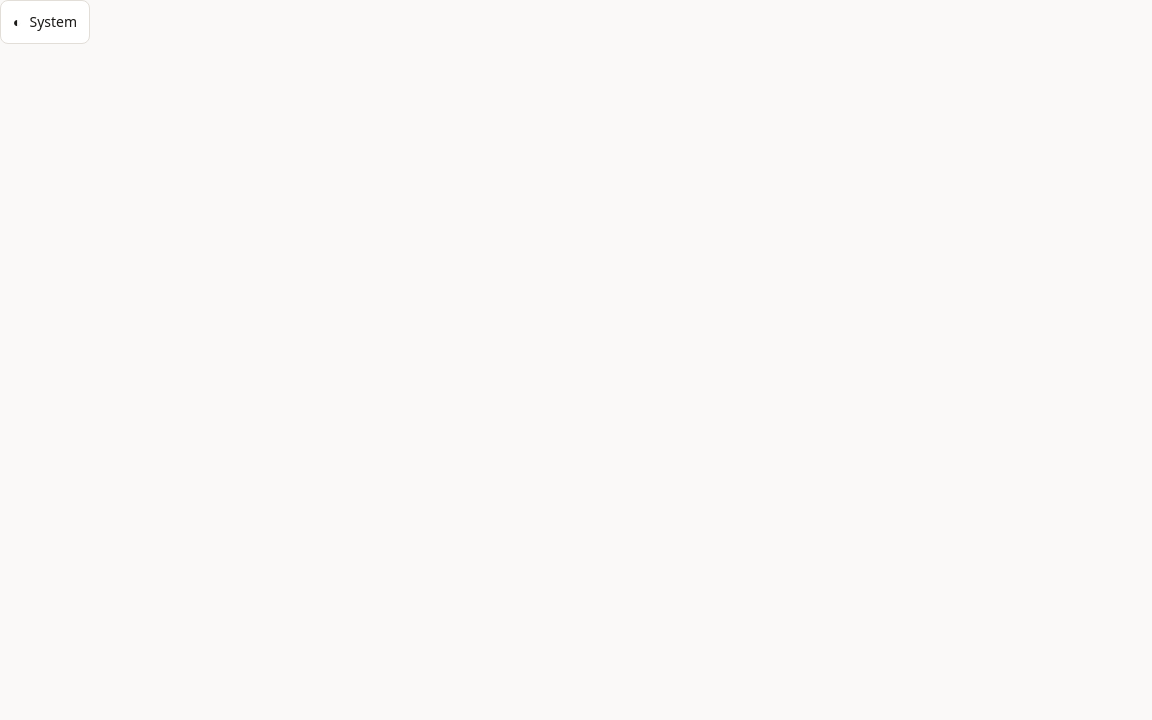
Test: ThemeToggle › cycles and persists the preference
Click the button with test id "theme-toggle" at (45, 22), box [0,0,90,44]
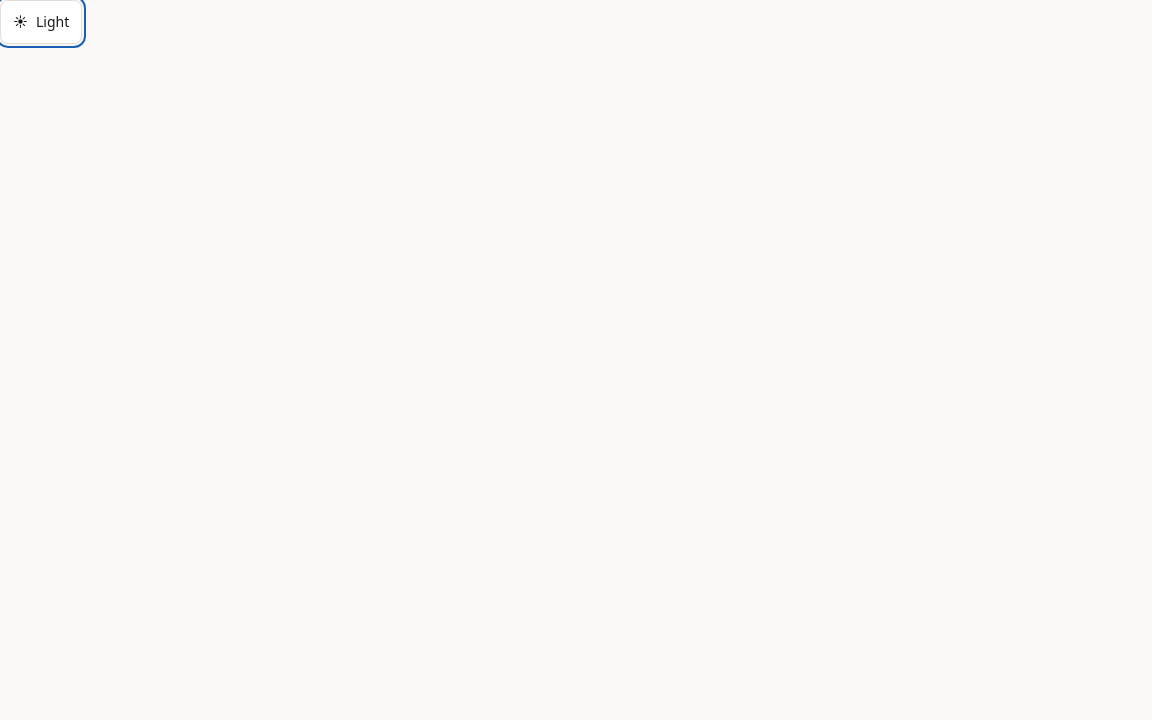
Check: the button with test id "theme-toggle" has attribute data-preference="light"
Click the button with test id "theme-toggle" at (41, 22), box [0,0,82,44]
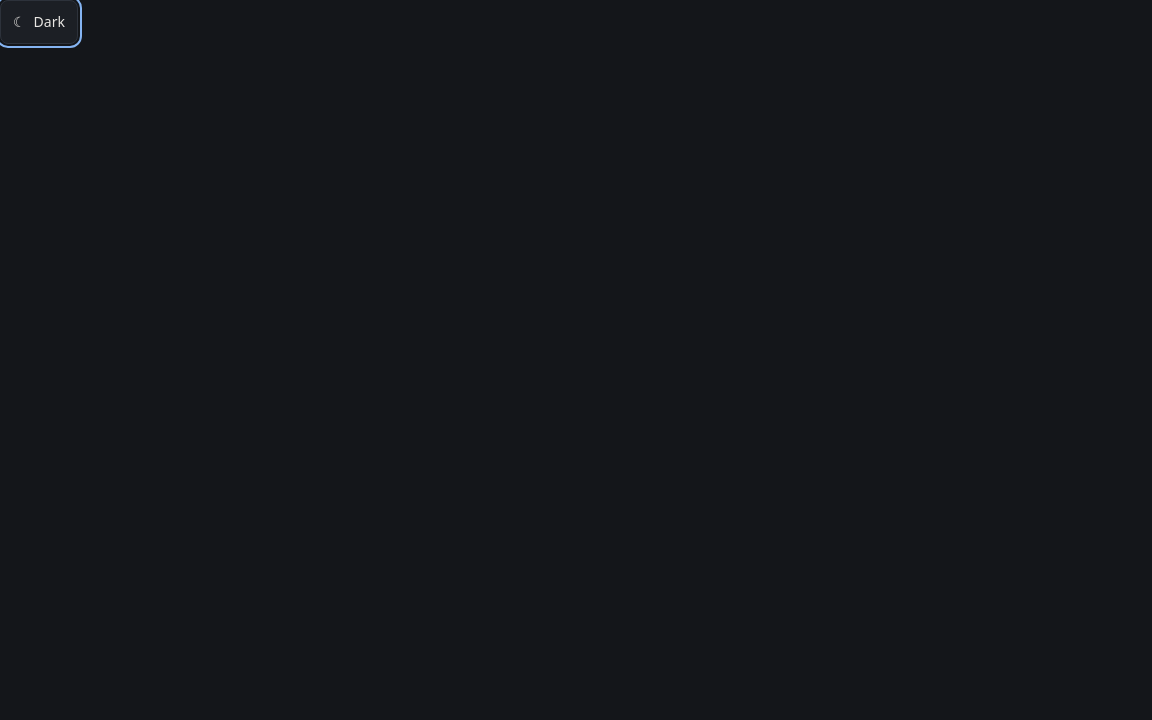
Check: the button with test id "theme-toggle" has attribute data-preference="dark", box [0,0,78,44]
